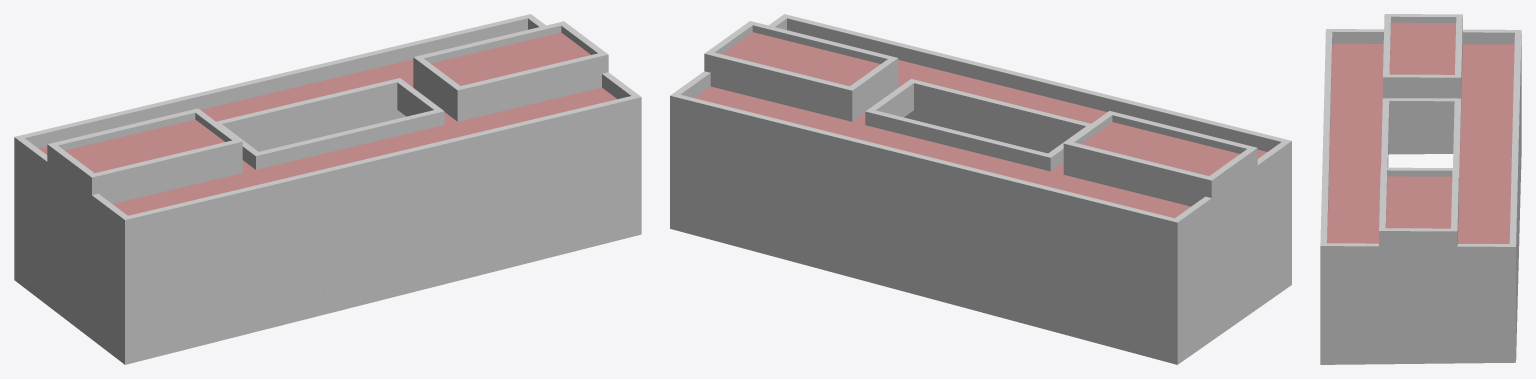
Rendered from LOD_Block_0_35.glb.
3 renders of one model, left to right at view 1: azimuth 30°, elevation 25°; view 2: azimuth 150°, elevation 25°; view 3: azimuth 270°, elevation 25°, orthographic. The views are drawn at different scales.
Parts seen in each view (by area): view 1: mesh_CityEngineMaterial_493; view 2: mesh_CityEngineMaterial_493; view 3: mesh_CityEngineMaterial_493.
Part boxes in pixels (left/top/right/bottom): mesh_CityEngineMaterial_493: left=14, top=14, right=641, bottom=364; mesh_CityEngineMaterial_493: left=670, top=14, right=1291, bottom=364; mesh_CityEngineMaterial_493: left=1320, top=14, right=1521, bottom=364.
Bounding box in the file's own units: 39.35 × 11.85 × 15.35.
